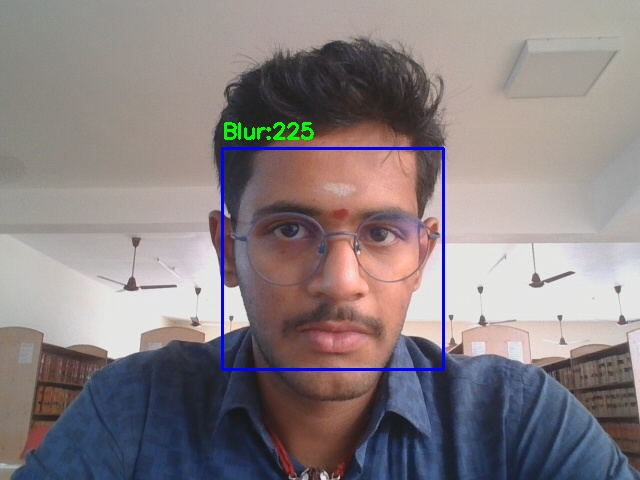real: (222, 148, 443, 369)
